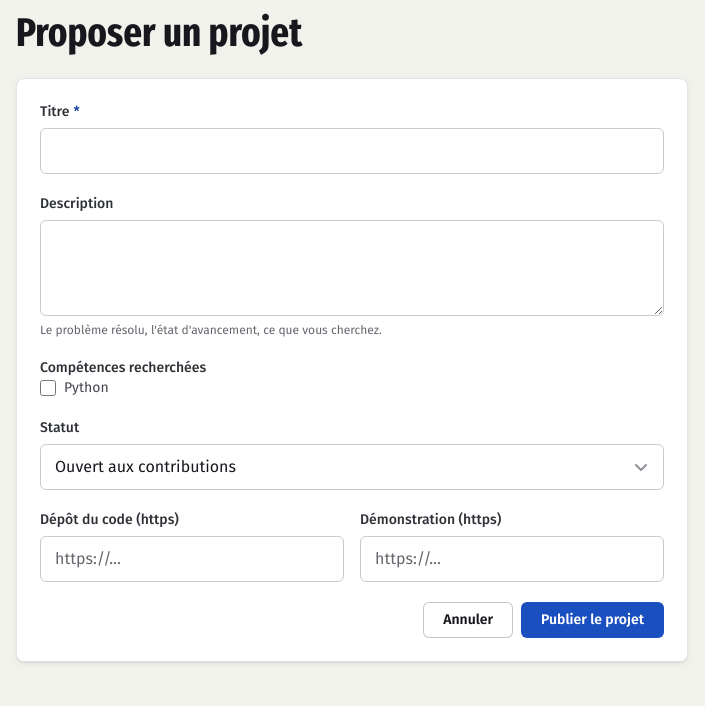
Test: formulaire de projet › exige un titre
The image size is (705, 706).
Check: the field labelled "Titre*" is shown, box [40,128,664,174]
Click the button "Publier le projet". click: coordinates (592, 620)
box: [521,602,664,638]
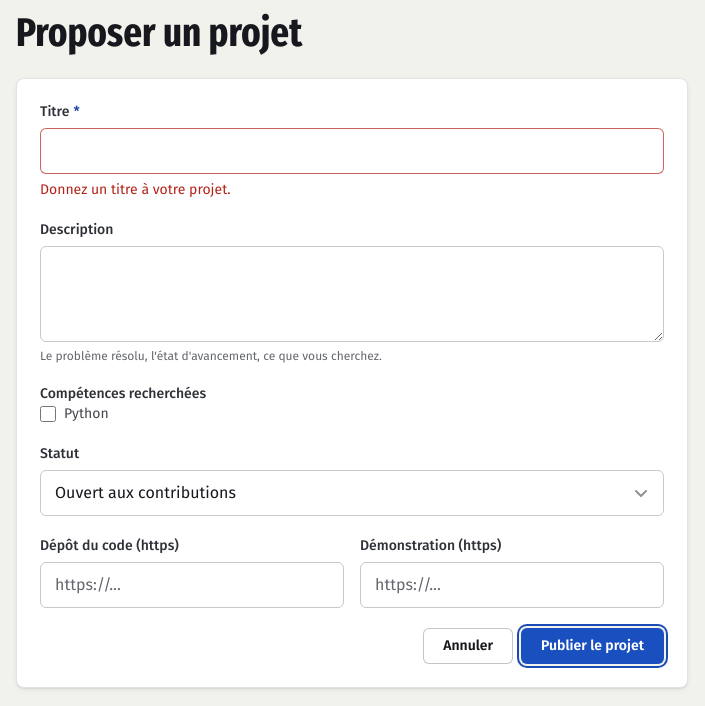
Check: the text "Donnez un titre à votre projet." is shown, box [40,181,231,198]
